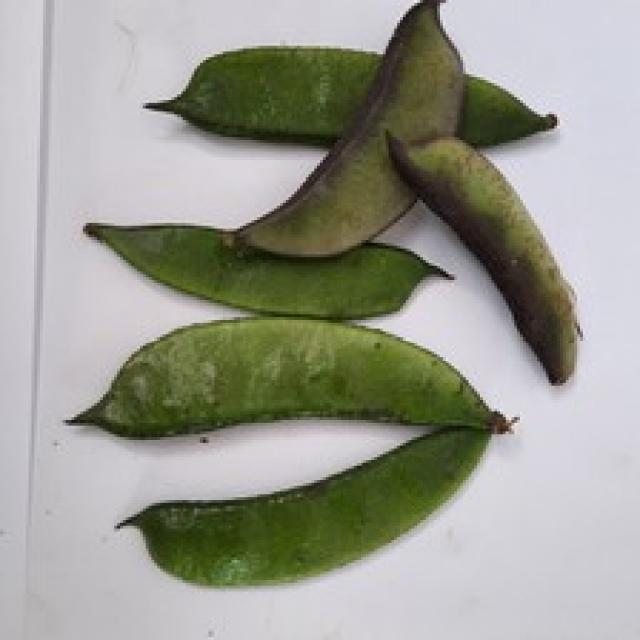Bean: (220, 0, 469, 257), (112, 423, 494, 586), (63, 314, 514, 437), (383, 126, 583, 386), (140, 43, 557, 148), (80, 217, 454, 320)
